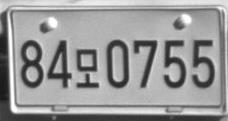0: (105, 38, 129, 88)
4: (46, 39, 72, 89)
5: (162, 39, 186, 89), (191, 39, 215, 89)
7: (132, 39, 158, 88)
8: (19, 39, 44, 88)
모: (75, 48, 99, 88)
